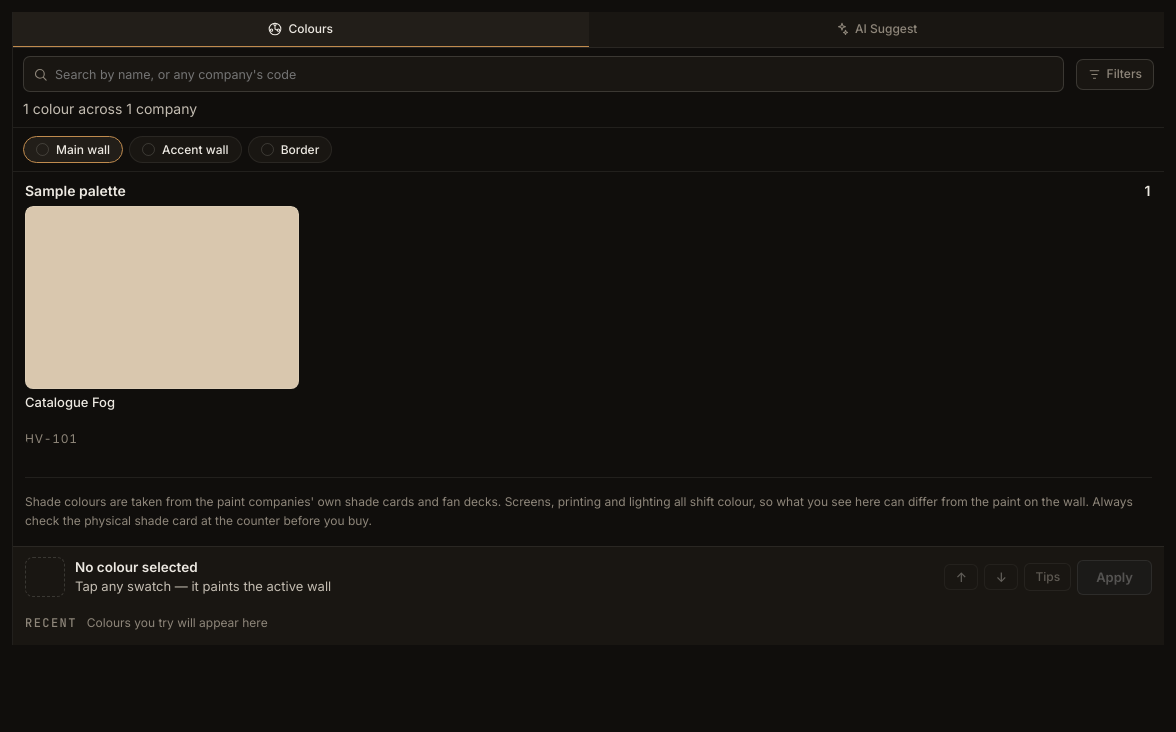
Test: Suggested colours (AI Suggest tab) › shows the closed-window message on 402 instead of a generic error
The image size is (1176, 732).
What coordinates should you click on to do the following:
click the tab "AI Suggest"
I would click on:
 (876, 30)
Its box is [588, 12, 1164, 48].
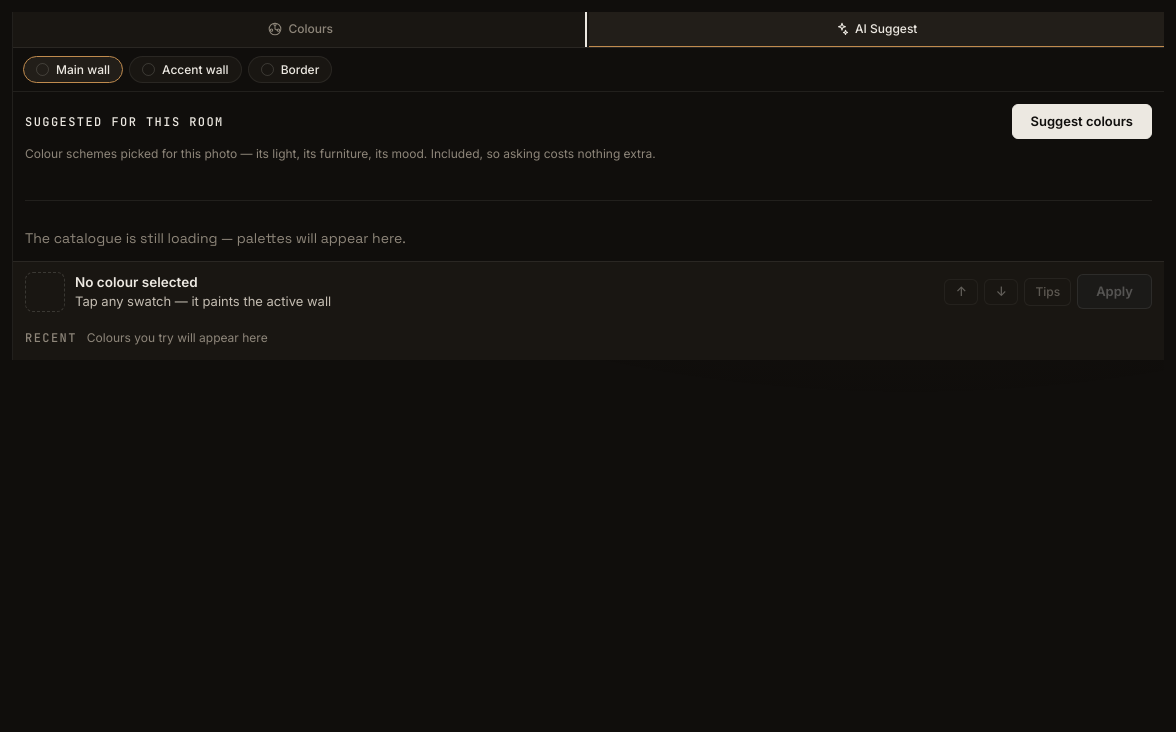
What coordinates should you click on to do the following:
click the button "Suggest colours"
I would click on:
 (1082, 122)
Its box is [1012, 104, 1152, 139].
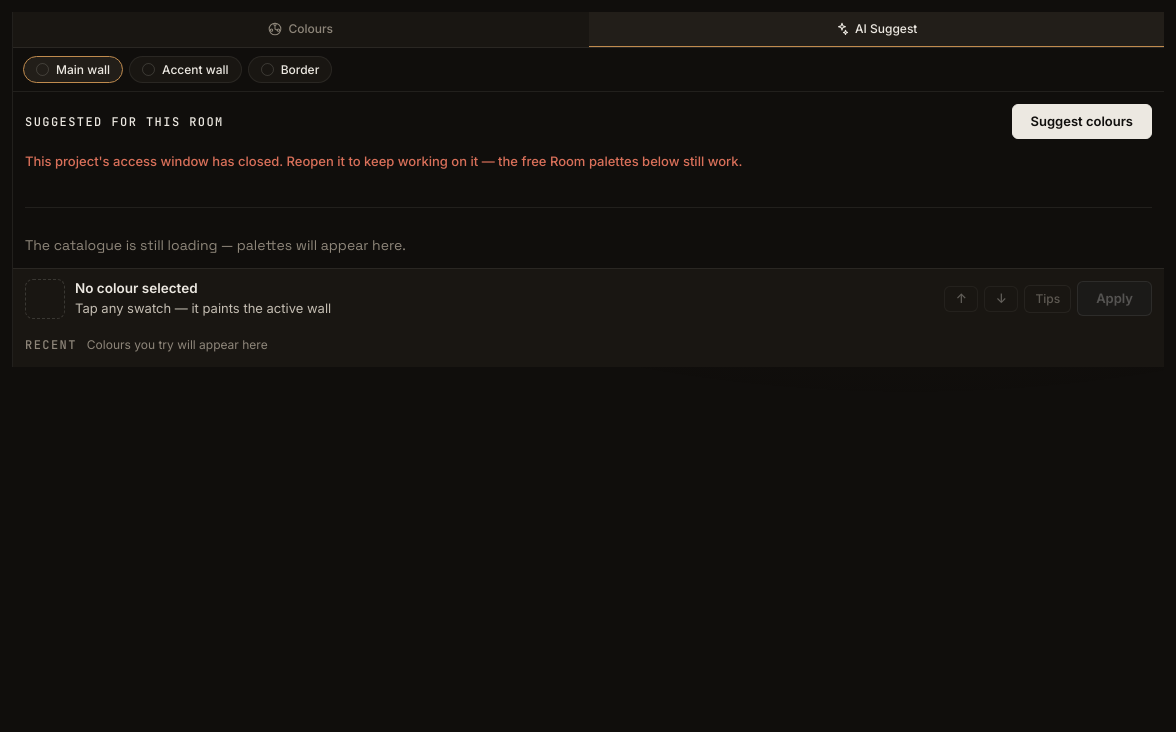
Expected: the button "Suggest colours" is enabled, [1012, 104, 1152, 139]
Expected: the message shows "access window has closed", [25, 153, 742, 169]
